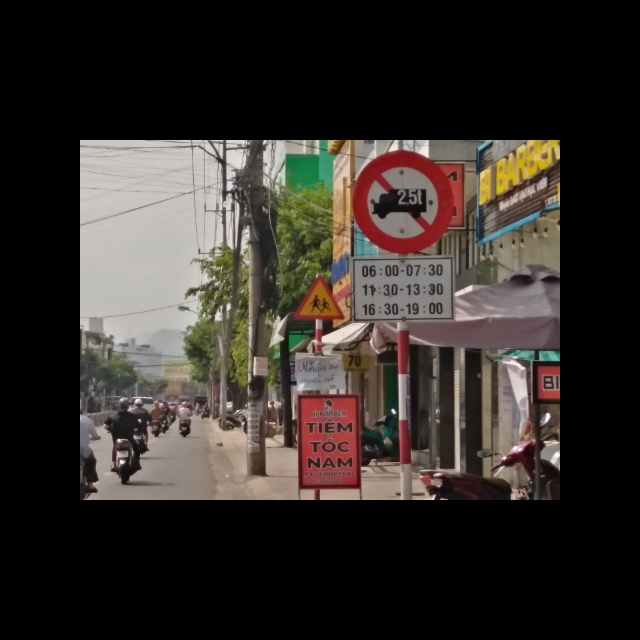Cấm xe tải: (349, 148, 456, 251)
Trẻ em ngang qua: (296, 273, 348, 320)
